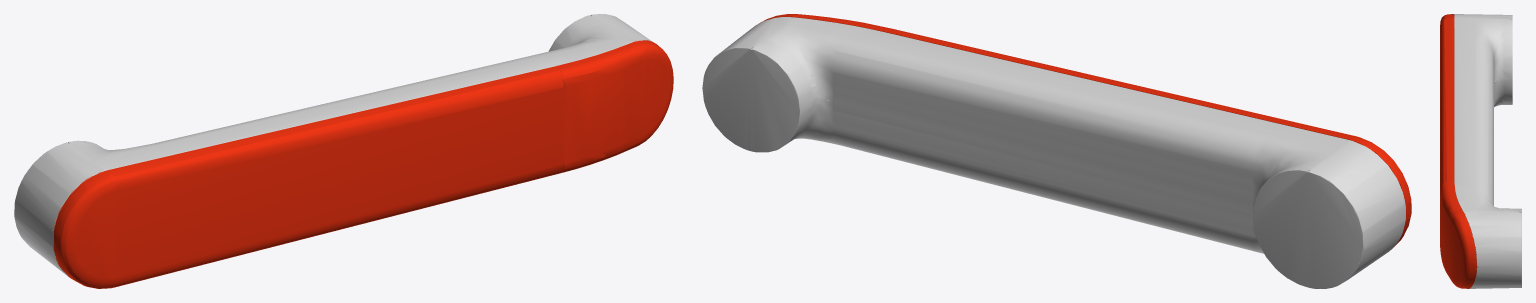
The picture shows the model from 3 angles, left to right: view 1: azimuth 30°, elevation 25°; view 2: azimuth 150°, elevation 25°; view 3: azimuth 270°, elevation 25°; orthographic projection. The views are drawn at different scales.
Visible parts, largest first — view 1: Mesh (×2); view 2: Mesh (×2); view 3: Mesh (×2).
Part boxes in pixels (<box>): Mesh (×2): <box>14,14,673,288</box>; Mesh (×2): <box>702,14,1411,288</box>; Mesh (×2): <box>1440,14,1521,288</box>.
Size of the model in its own units: 489 by 84.57 by 75.18.
